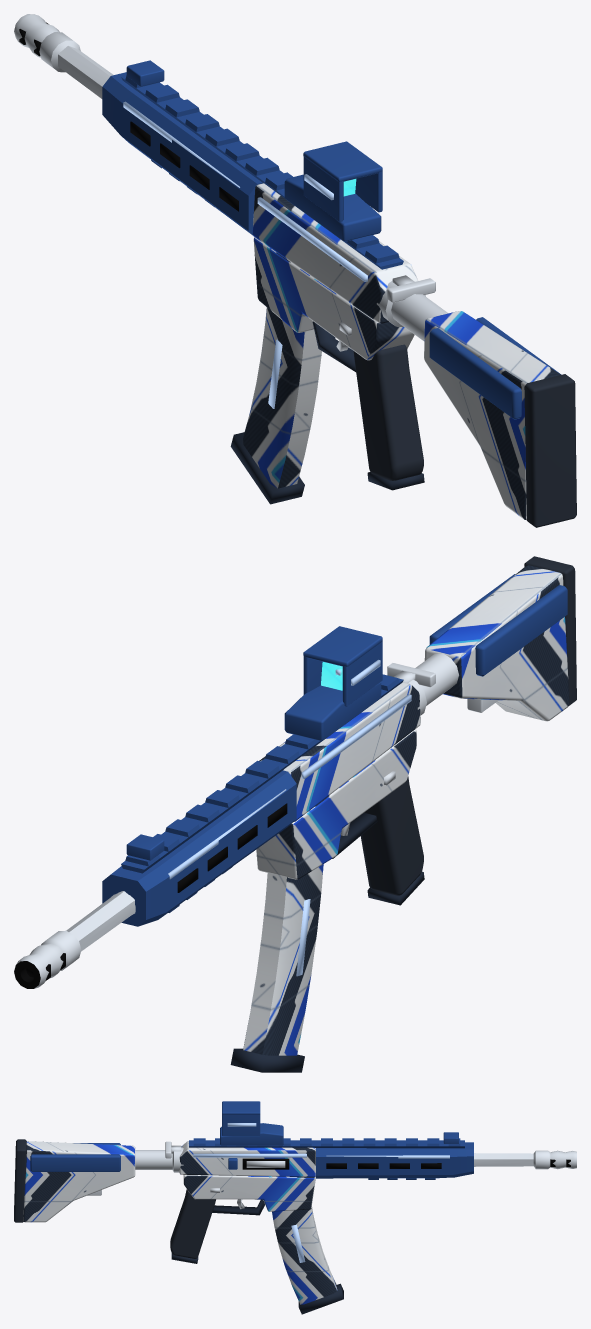
The model's file is weapon_vanguard_m4.glb.
The picture shows the model from 3 angles, top to bottom: view 1: azimuth 30°, elevation 25°; view 2: azimuth 150°, elevation 25°; view 3: azimuth 270°, elevation 25°; orthographic projection. The views are drawn at different scales.
Visible parts, largest first — view 1: VanguardM4; view 2: VanguardM4; view 3: VanguardM4.
Boxes of the visible parts, <box> form: VanguardM4: <box>14,14,576,527</box>; VanguardM4: <box>14,556,576,1072</box>; VanguardM4: <box>14,1101,576,1314</box>.
Bounding box in the file's own units: 0.051 × 0.3275 × 0.8199.
8 materials, 1 textured.
